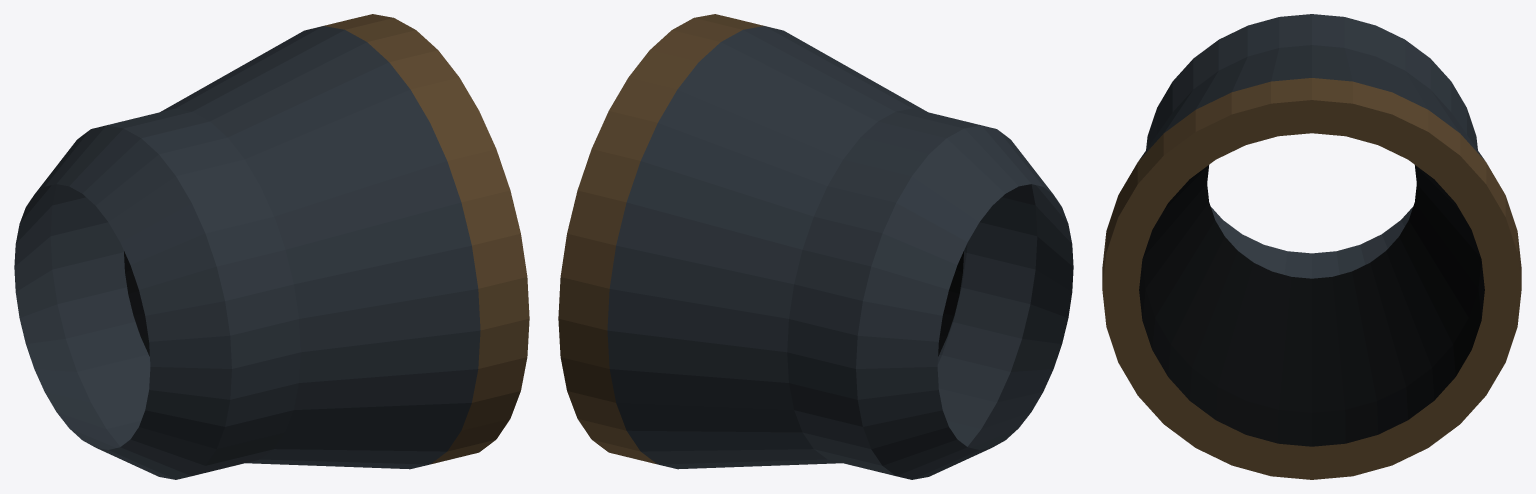
Rendered from SM_VectorNozzle.obj.
The picture shows the model from 3 angles, left to right: view 1: azimuth 30°, elevation 25°; view 2: azimuth 150°, elevation 25°; view 3: azimuth 270°, elevation 25°; orthographic projection. The views are drawn at different scales.
Parts seen in each view (by area): view 1: VectorNozzle; view 2: VectorNozzle; view 3: VectorNozzle.
Boxes of the visible parts, x1=… form: VectorNozzle: x1=14, y1=14, x2=529, y2=479; VectorNozzle: x1=558, y1=14, x2=1073, y2=479; VectorNozzle: x1=1102, y1=14, x2=1521, y2=479.
Bounding box in the file's own units: 34 × 40 × 40.
